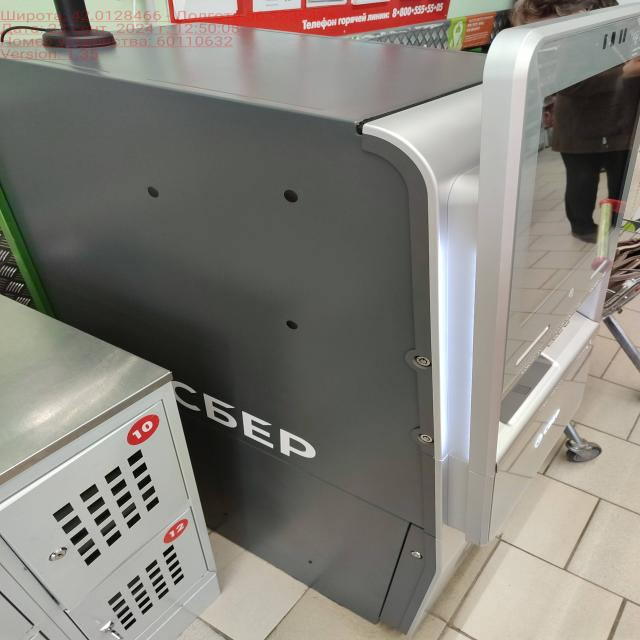bank: (0, 14, 640, 631)
